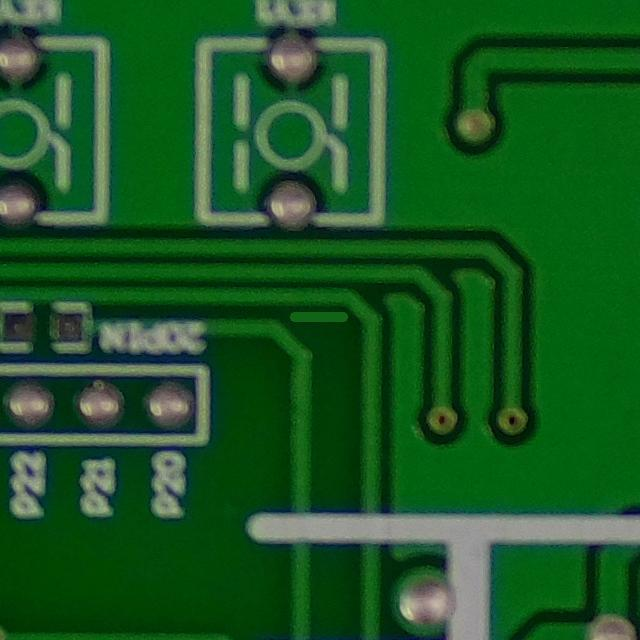spurious_copper: (276, 291, 364, 349)
